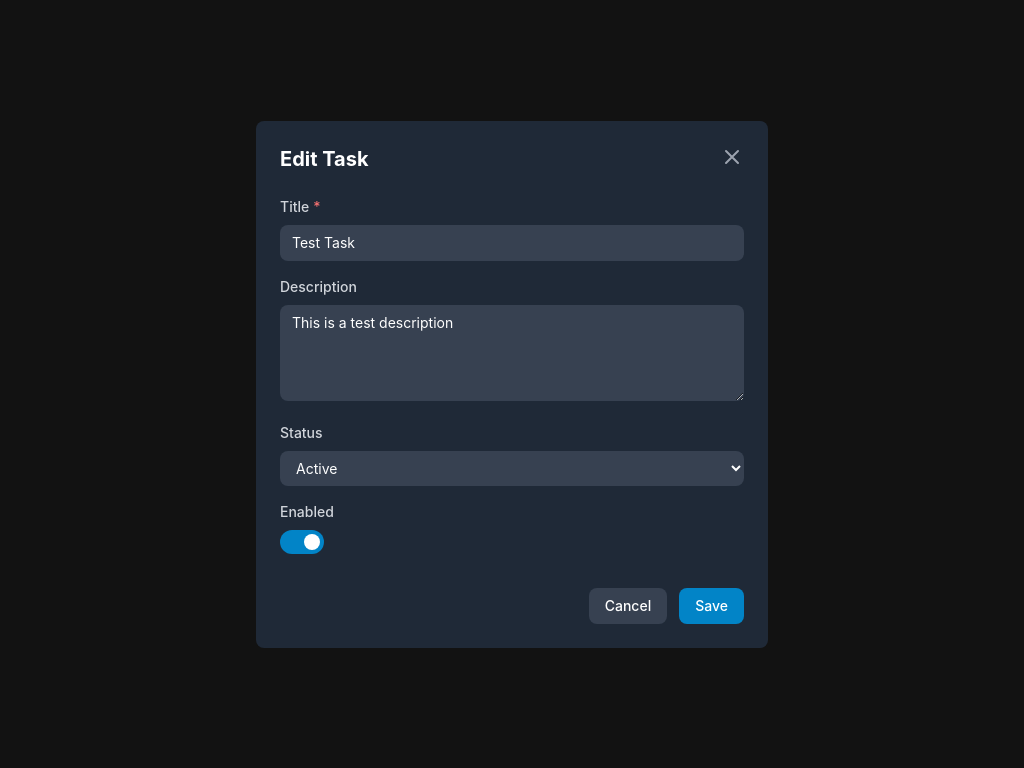
Test: EditModal › Save Functionality › should display error message on save failure
Click the button "Save": (712,606) [679,588,744,624]
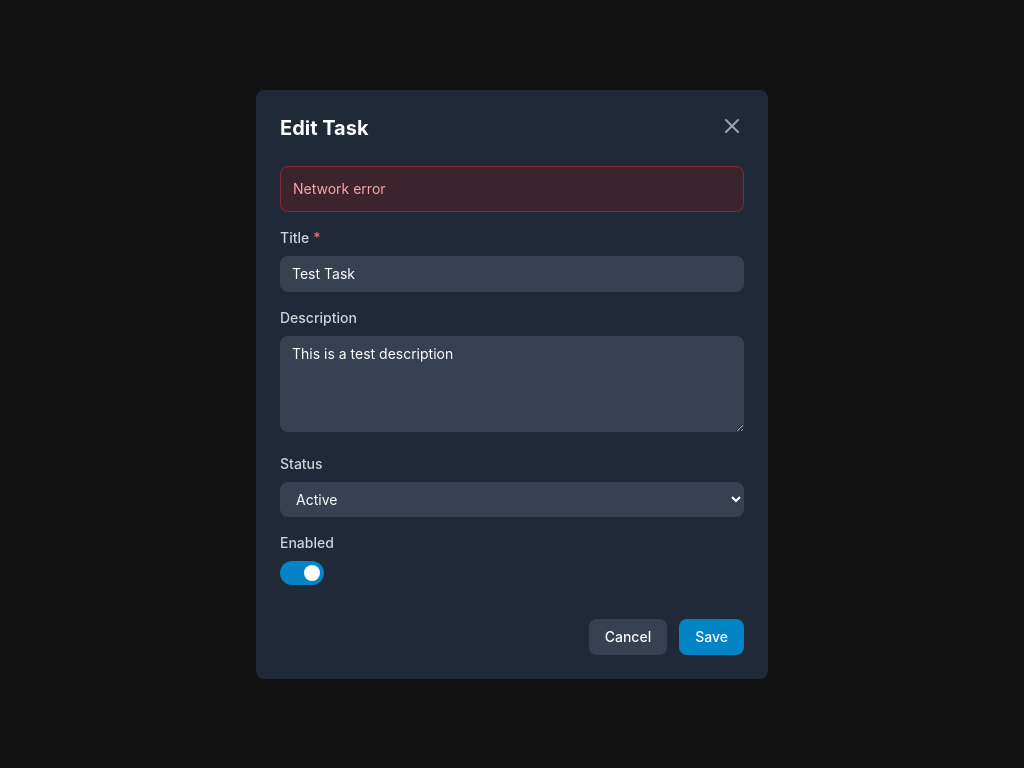
Expected: the text "Network error" is shown, [293,180,386,196]
